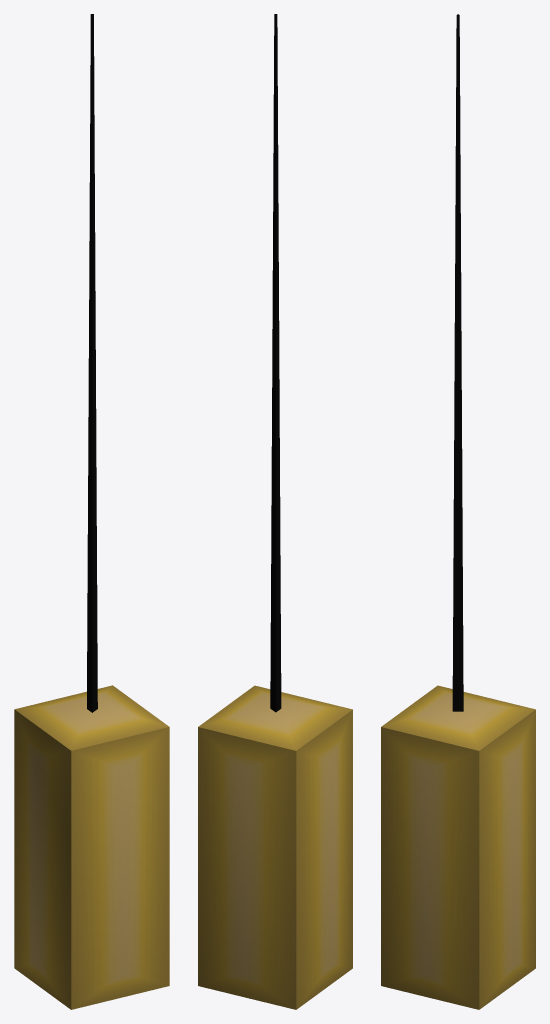
File: LampQuad_Yellow.fbx
The picture shows the model from 3 angles, left to right: view 1: azimuth 30°, elevation 25°; view 2: azimuth 150°, elevation 25°; view 3: azimuth 330°, elevation 25°; orthographic projection.
Visible parts, largest first — view 1: LampQuad_Yellow; view 2: LampQuad_Yellow; view 3: LampQuad_Yellow.
Part boxes in pixels (left/top/right/bottom): LampQuad_Yellow: left=14, top=14, right=169, bottom=1009; LampQuad_Yellow: left=198, top=14, right=352, bottom=1009; LampQuad_Yellow: left=381, top=14, right=535, bottom=1009.
Size of the model in its own units: 18.51 by 151 by 18.51.
